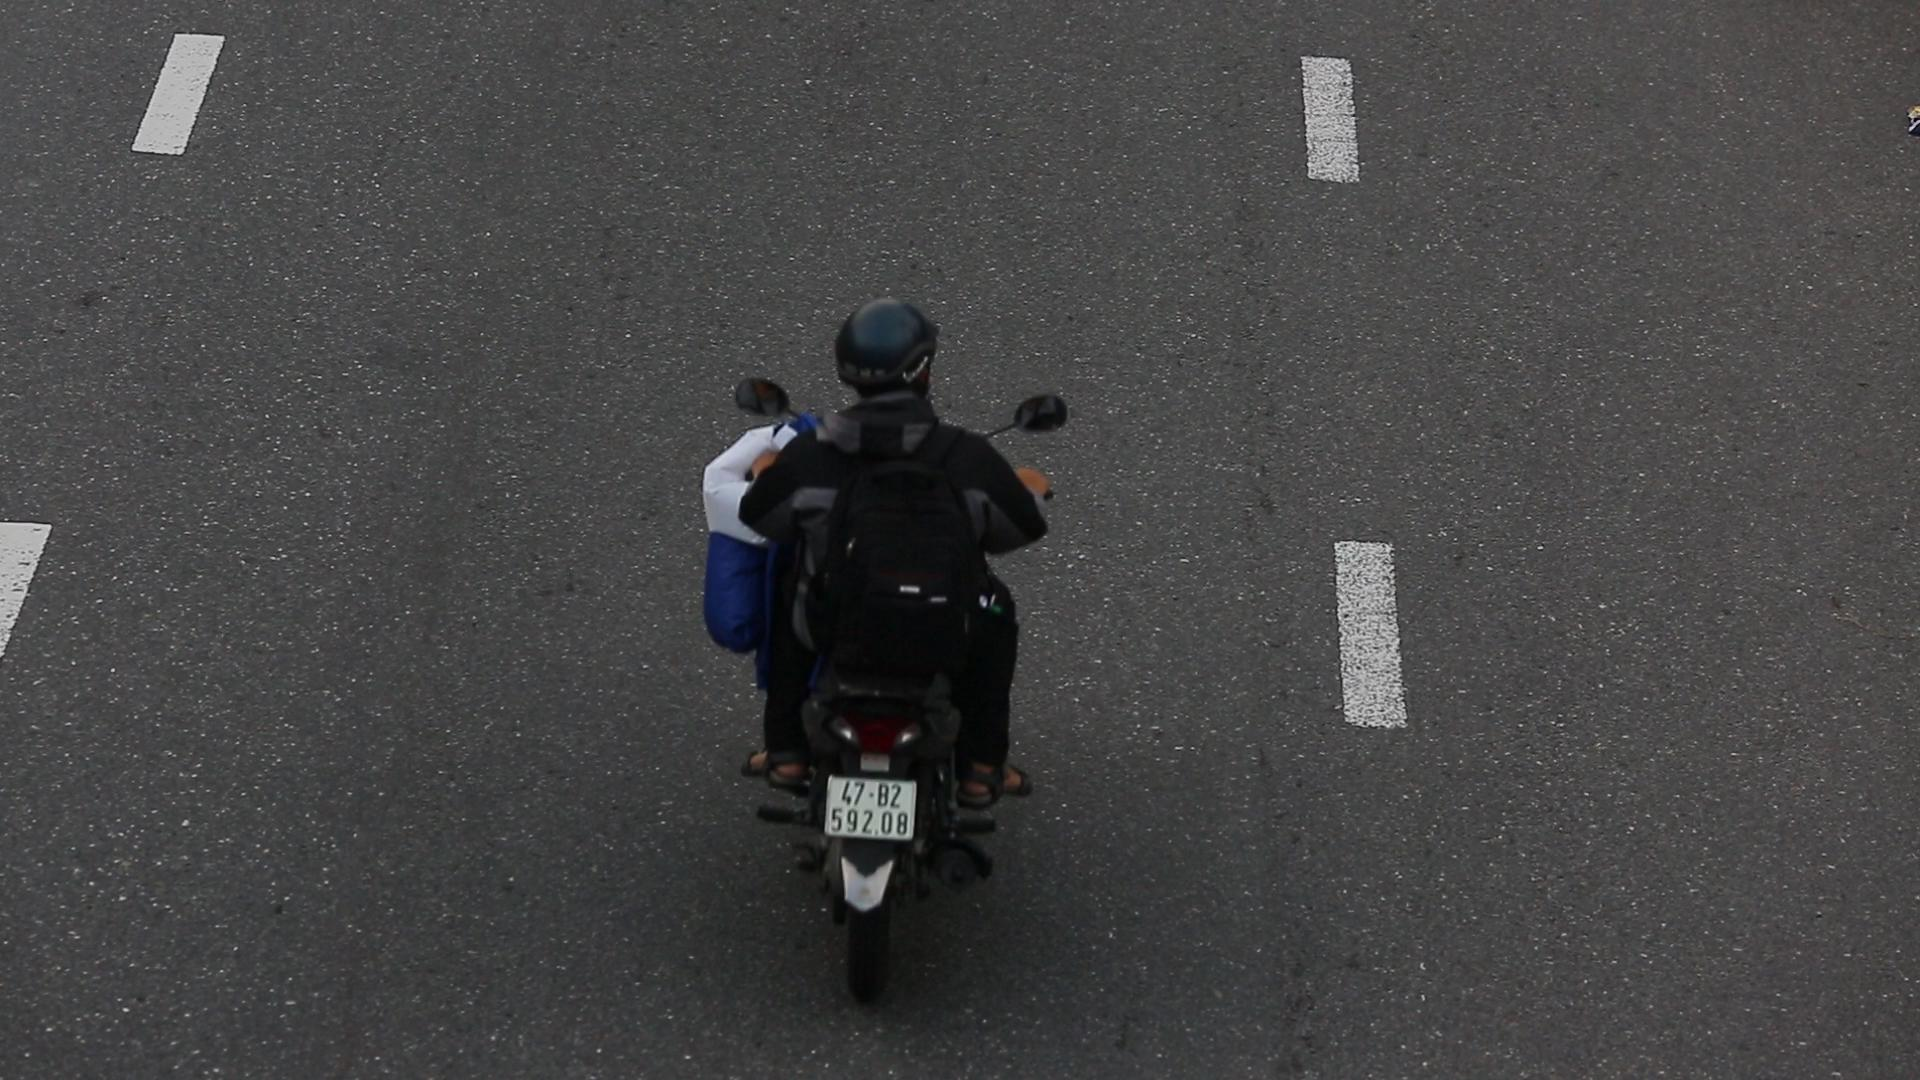motobike: (703, 290, 1073, 973)
